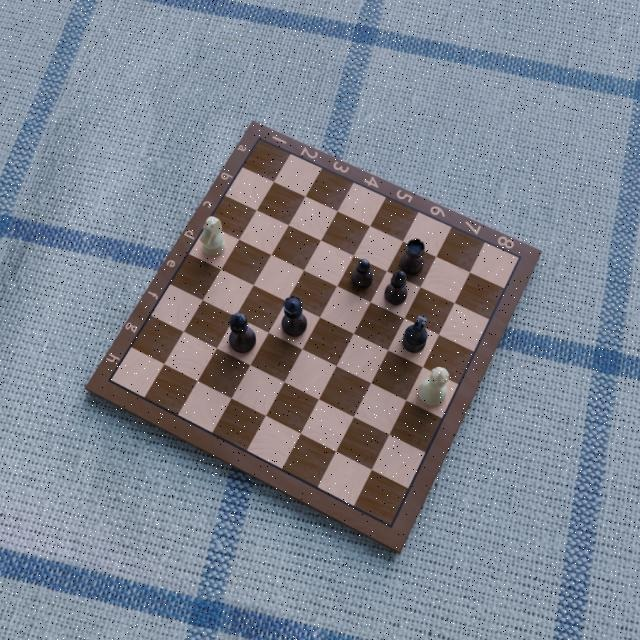black-bishop: (383, 267, 408, 305)
black-king: (229, 312, 257, 352)
black-knight: (400, 315, 427, 354)
black-pawn: (351, 257, 374, 290)
black-queen: (279, 294, 308, 338)
black-rook: (400, 237, 427, 277)
white-king: (417, 364, 450, 408)
white-knight: (200, 214, 228, 257)
